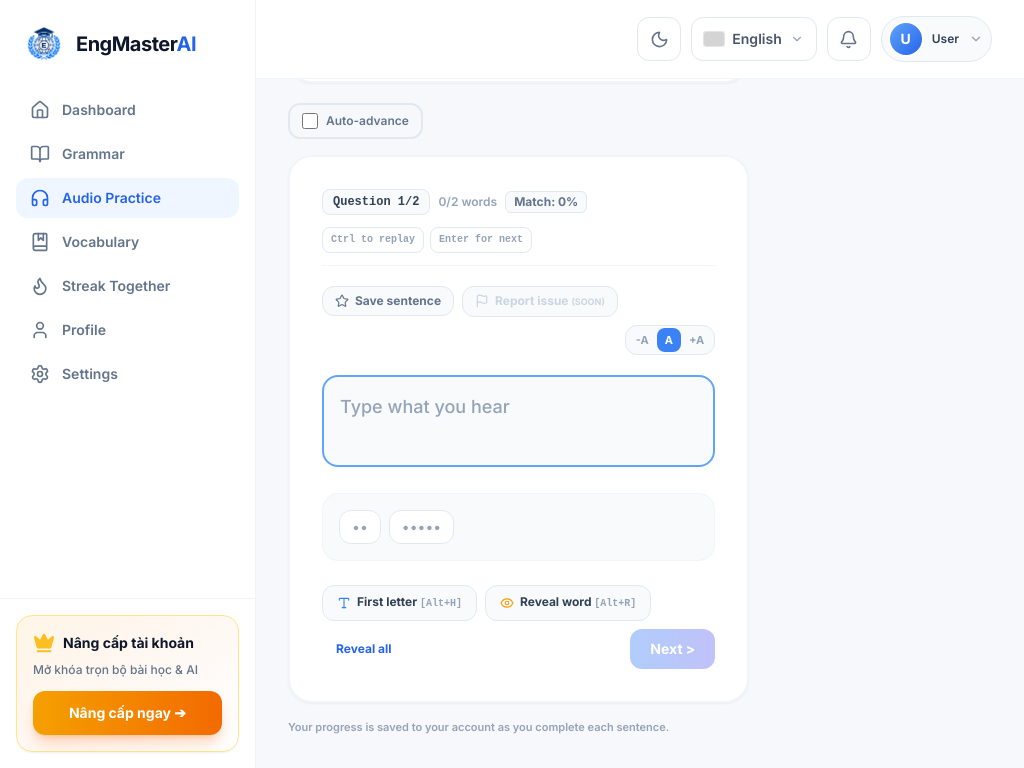
Test: ListeningContentPage — segments come from the backend › drives the Dictation workspace from the server’s sentences
This screenshot has width=1024, height=768.
(page scrolled)
Expected: the text "Question 1/2" is shown, [322,189,430,215]
Type "hi there" into the text box with placeholder "Type what you hear" at (519, 421), box [322,375,715,467]
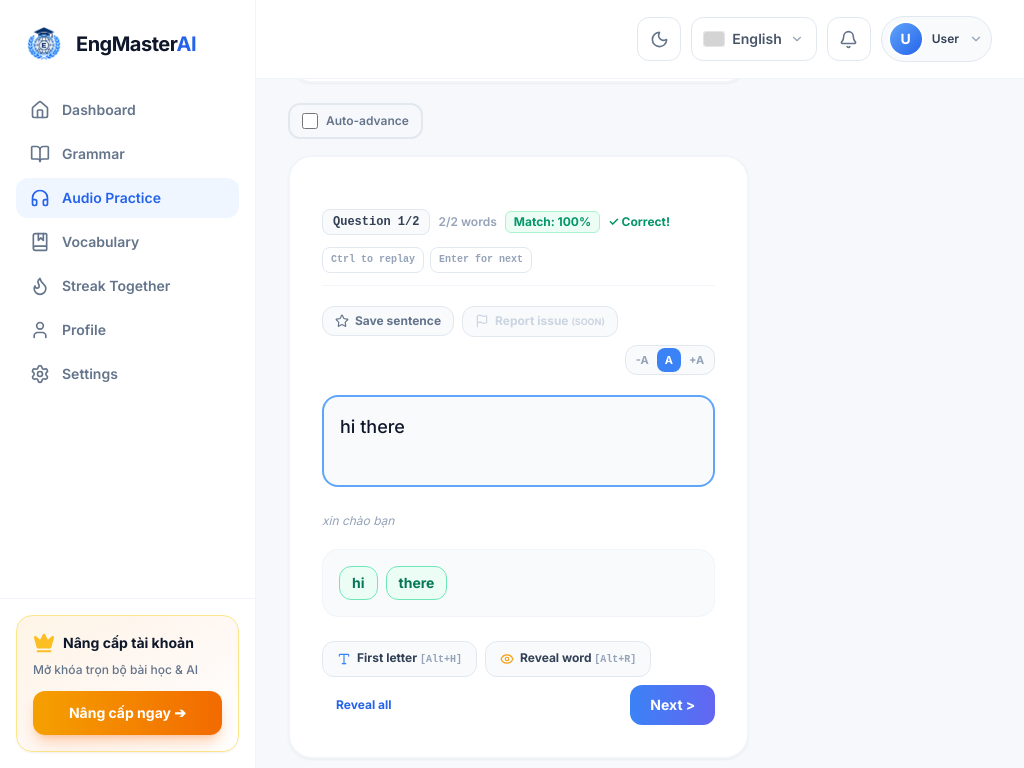
Expected: the text "Match: 100%" is shown, [505,211,600,233]
